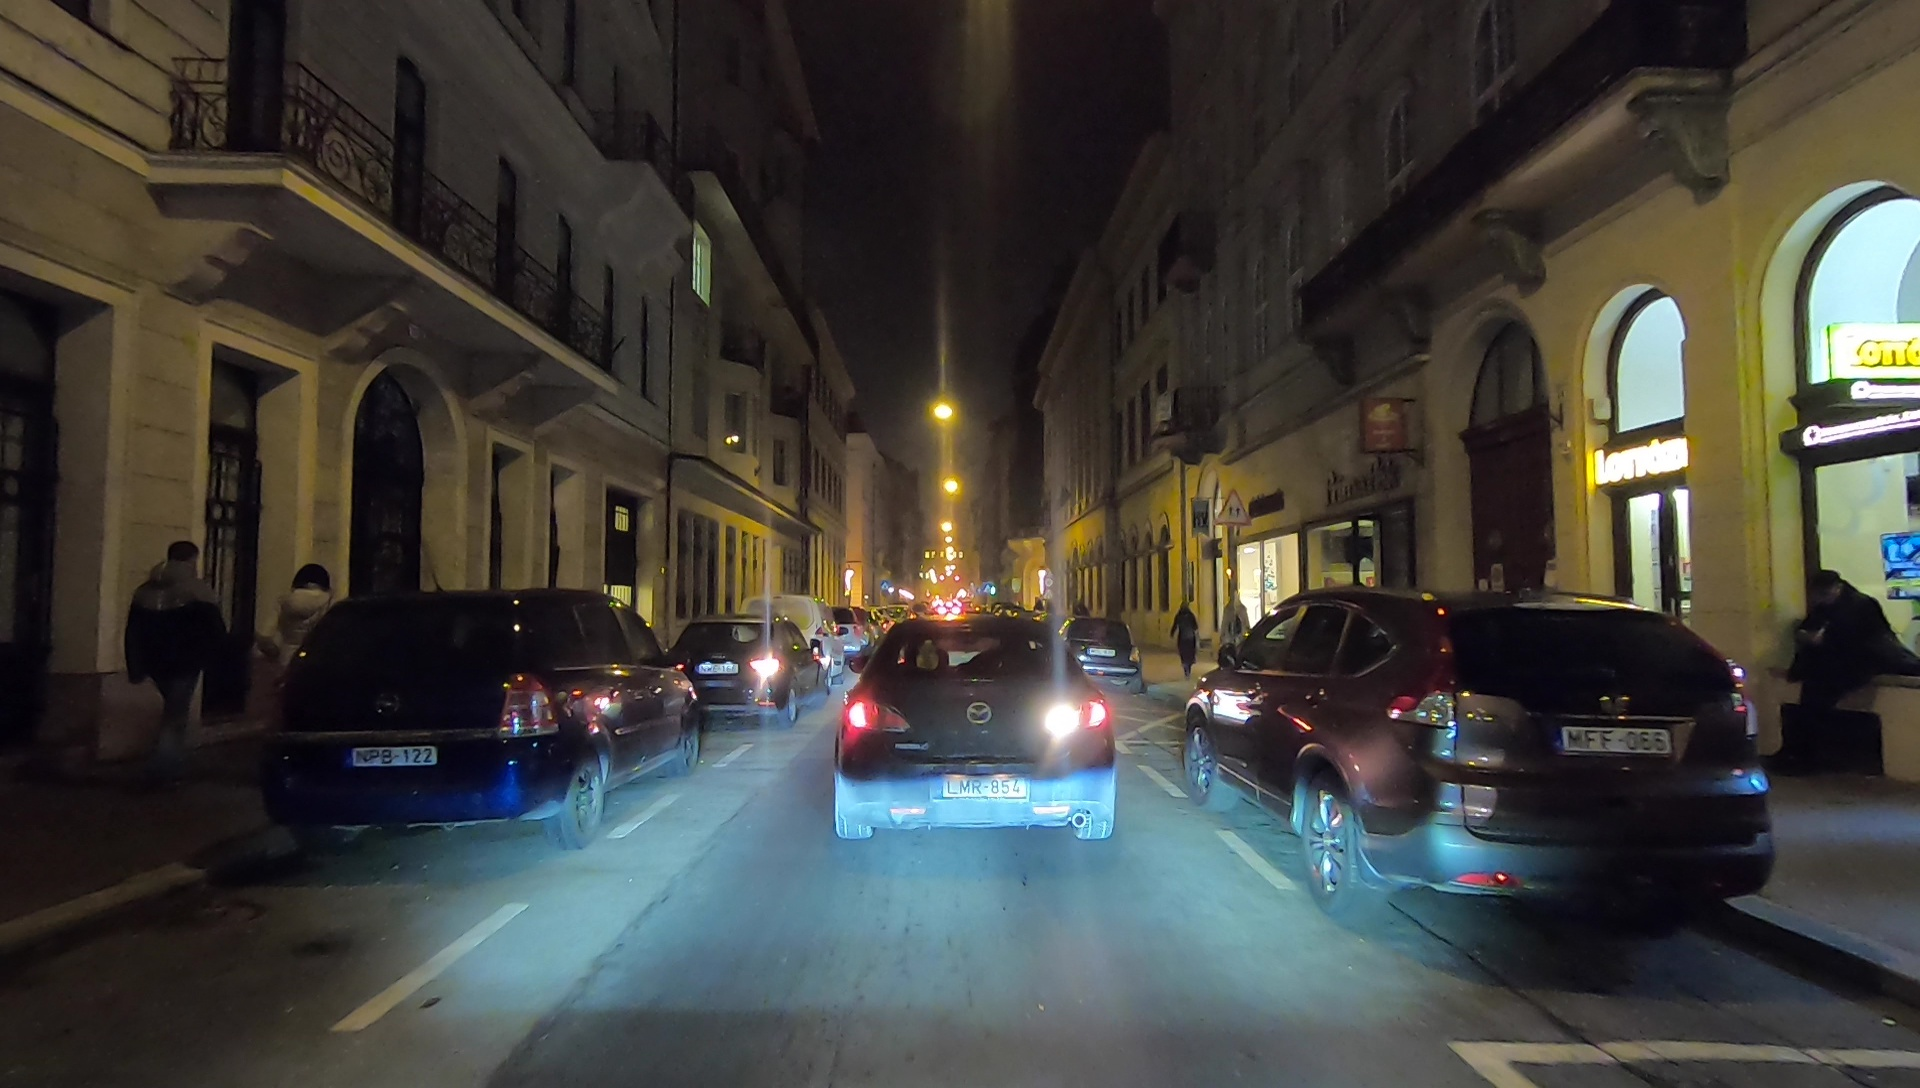person: (130, 541, 225, 784), (1782, 571, 1889, 754), (267, 567, 336, 752), (1165, 599, 1204, 676)
